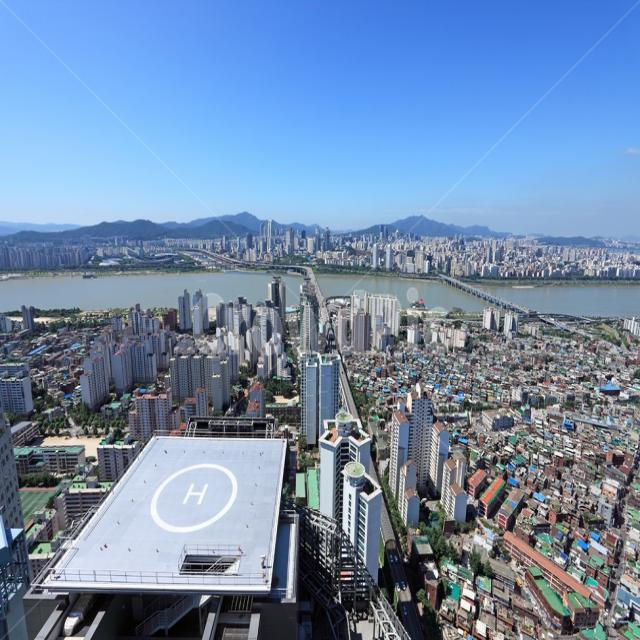helipad: (148, 458, 239, 534)
